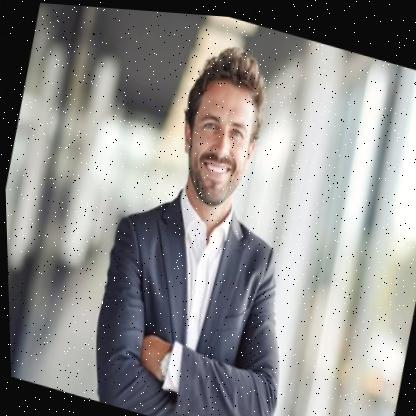person: (65, 9, 354, 416)
